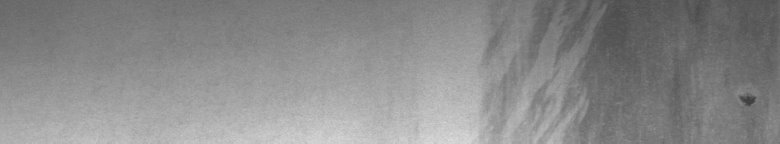fi: (736, 85, 759, 112)
